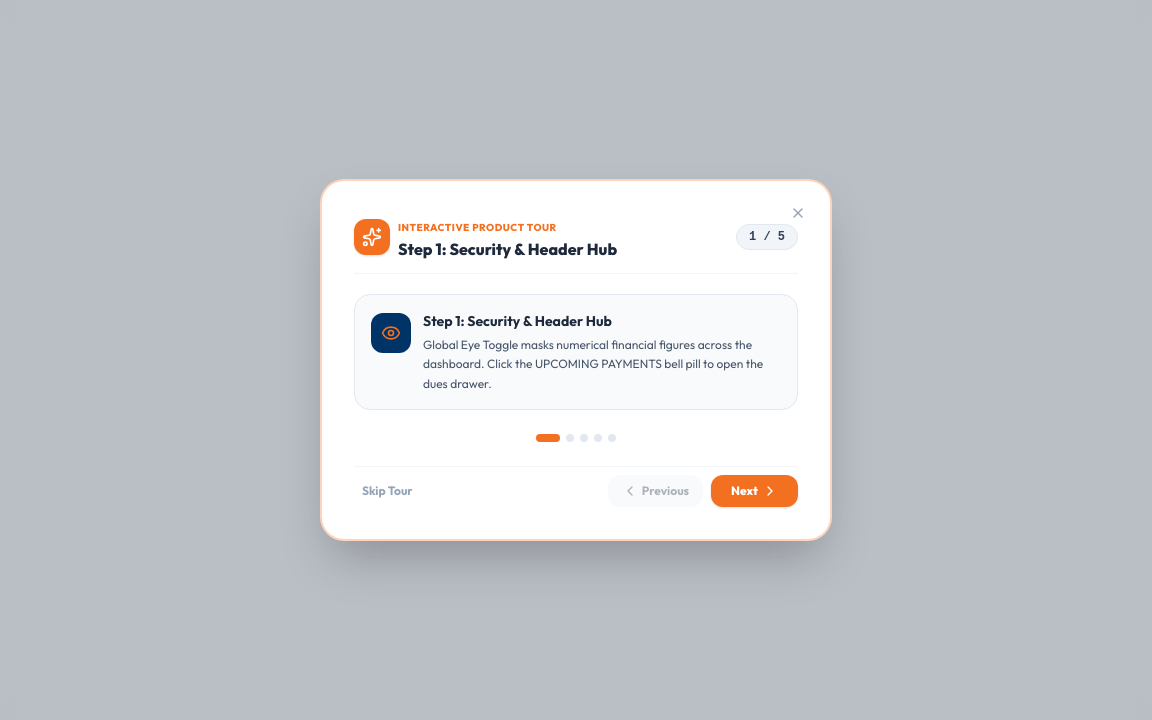
Demo System & Guided Walkthrough Integration Tests › should render GuidedTourModal and step through walkthrough tooltips
Check: the text "INTERACTIVE PRODUCT TOUR" is shown, box x1=398 y1=221 x2=557 y2=234
Check: the heading "Step 1: Security & Header Hub" below "INTERACTIVE PRODUCT TOUR" is shown, box x1=398 y1=239 x2=617 y2=259
Note: Next step
Click the button "Next" at (755,491), box x1=711 y1=475 x2=798 y2=507
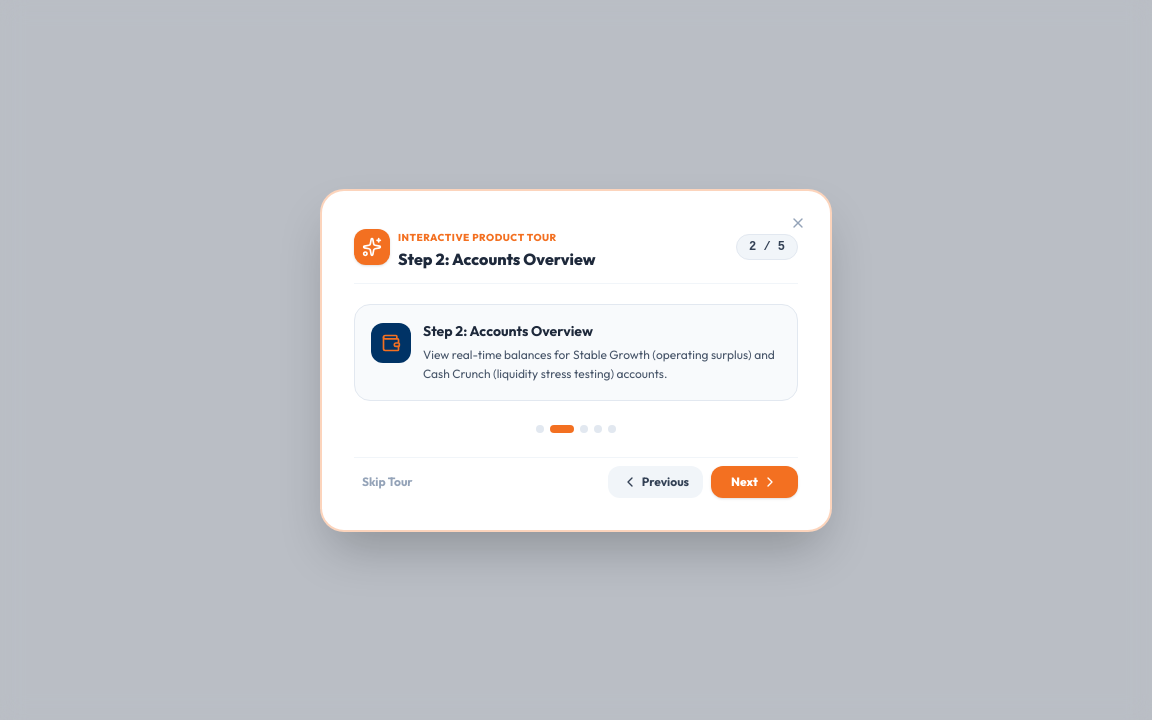
Check: the heading "Step 2: Accounts Overview" below "INTERACTIVE PRODUCT TOUR" is shown, box x1=398 y1=248 x2=596 y2=268
Note: Next step
Click the button "Next" at (755,482), box x1=711 y1=466 x2=798 y2=498
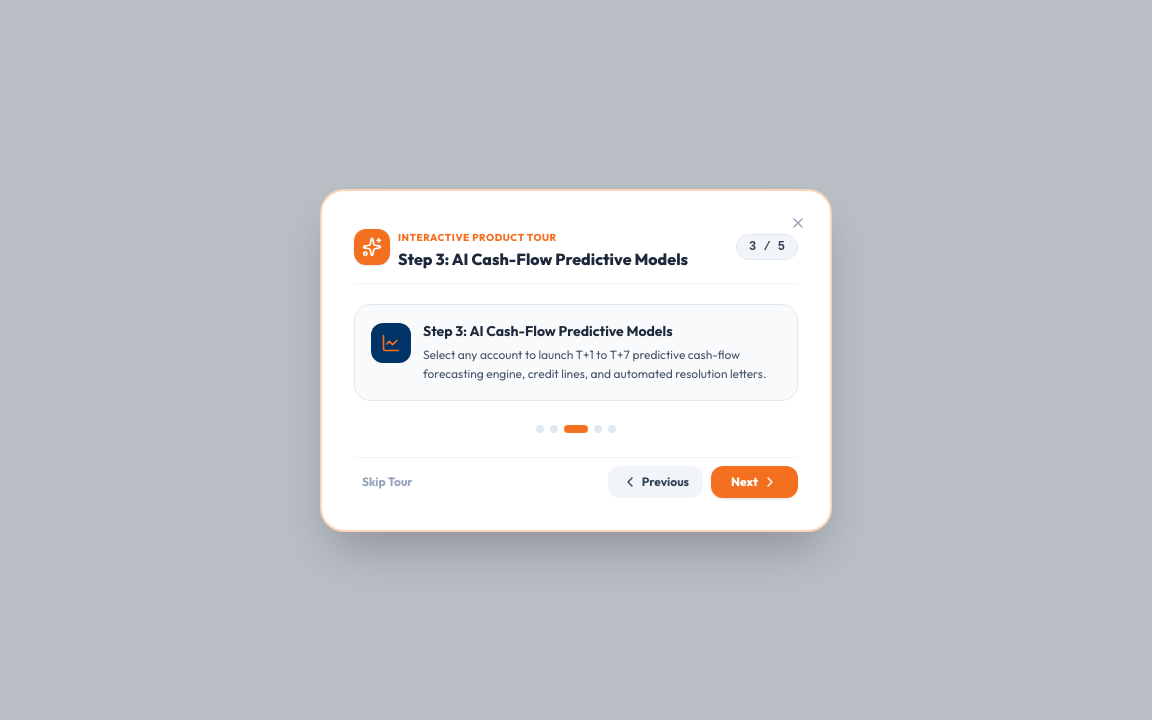
Check: the heading "Step 3: AI Cash-Flow Predictive Models" below "INTERACTIVE PRODUCT TOUR" is shown, box x1=398 y1=248 x2=688 y2=268
